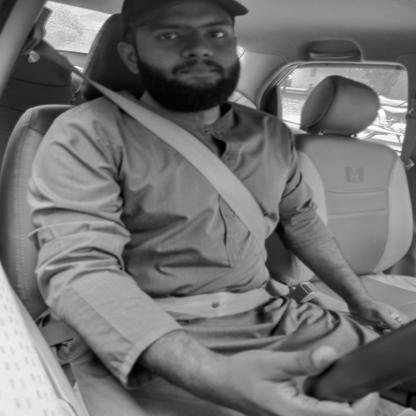seatbelt: (112, 0, 272, 255)
